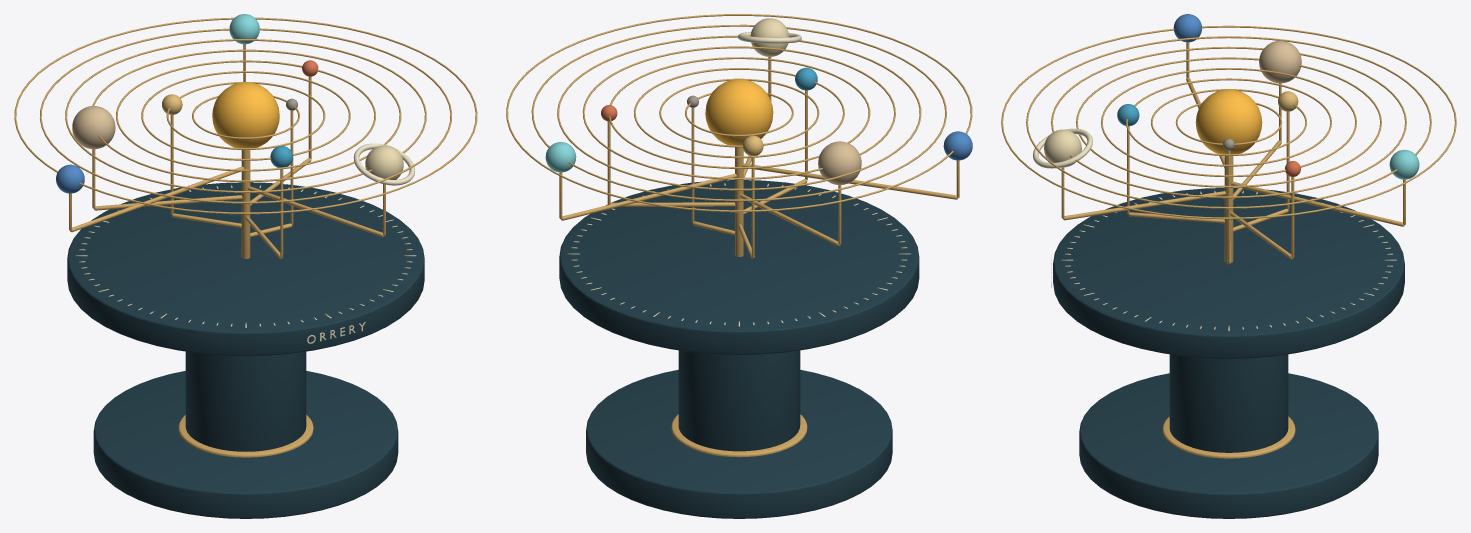
File: DiscoveryOrrery.glb
The picture shows the model from 3 angles, left to right: view 1: azimuth 30°, elevation 25°; view 2: azimuth 150°, elevation 25°; view 3: azimuth 270°, elevation 25°; orthographic projection. The views are drawn at different scales.
Visible parts, largest first — view 1: Precision base, Display foot, Pedestal, Sun, Orbital teaching track.007, Orbital teaching track.006, Orbital teaching track.005, Orbital teaching track.004, Jupiter, Orbital teaching track.003, Brass collar, Orbital teaching track.002 (+9 smaller); view 2: Precision base, Display foot, Pedestal, Sun, Orbital teaching track.007, Orbital teaching track.006, Orbital teaching track.005, Orbital teaching track.004, Jupiter, Orbital teaching track.003, Brass collar, Orbital teaching track.002 (+8 smaller); view 3: Precision base, Display foot, Pedestal, Sun, Orbital teaching track.007, Orbital teaching track.006, Orbital teaching track.005, Orbital teaching track.004, Jupiter, Orbital teaching track.003, Brass collar, Orbital teaching track.002 (+8 smaller).
Part boxes in pixels (x1,y1,x2,y2): Precision base: (67, 182, 424, 355); Display foot: (93, 371, 398, 518); Pedestal: (185, 351, 306, 451); Sun: (212, 82, 279, 148); Orbital teaching track.007: (14, 17, 477, 214); Orbital teaching track.006: (39, 28, 452, 203); Orbital teaching track.005: (65, 39, 426, 192); Orbital teaching track.004: (92, 49, 401, 182); Jupiter: (72, 106, 115, 149); Orbital teaching track.003: (116, 60, 375, 171); Brass collar: (178, 415, 313, 457); Orbital teaching track.002: (141, 71, 350, 160); Precision base: (559, 180, 919, 354); Display foot: (586, 369, 892, 518); Pedestal: (678, 350, 800, 451); Sun: (705, 79, 773, 145); Orbital teaching track.007: (506, 14, 972, 212); Orbital teaching track.006: (531, 24, 946, 201); Orbital teaching track.005: (557, 35, 921, 190); Orbital teaching track.004: (582, 46, 895, 179); Jupiter: (818, 141, 861, 185); Orbital teaching track.003: (608, 57, 870, 168); Brass collar: (671, 414, 807, 457); Orbital teaching track.002: (634, 68, 844, 158); Precision base: (1053, 188, 1404, 358); Display foot: (1079, 373, 1378, 518); Pedestal: (1169, 354, 1288, 452); Sun: (1195, 89, 1262, 154); Orbital teaching track.007: (1001, 25, 1456, 219); Orbital teaching track.006: (1026, 36, 1431, 208); Orbital teaching track.005: (1051, 46, 1406, 198); Orbital teaching track.004: (1076, 57, 1381, 187); Jupiter: (1259, 40, 1301, 83); Orbital teaching track.003: (1101, 68, 1356, 177); Brass collar: (1162, 416, 1295, 458); Orbital teaching track.002: (1126, 78, 1331, 166).
Bounding box in the file's own units: 1.96 × 1.69 × 1.92.
